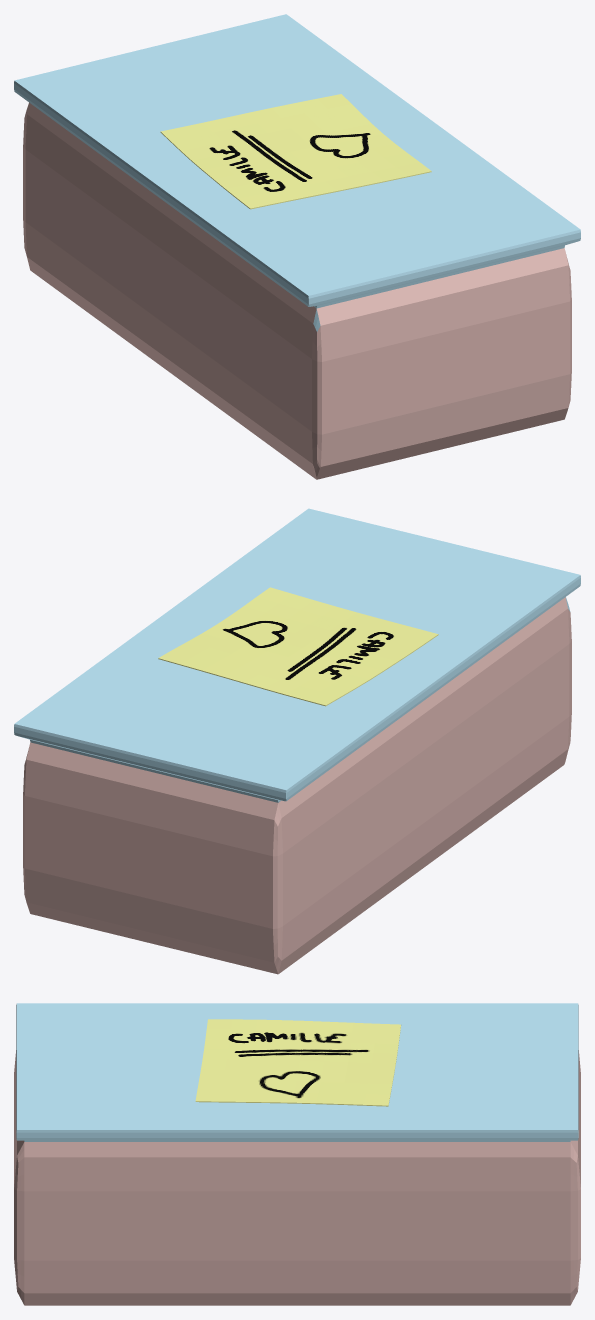
The model's file is Tupperware.fbx.
3 views of the same model, one above another, from view 1: azimuth 30°, elevation 25°; view 2: azimuth 150°, elevation 25°; view 3: azimuth 270°, elevation 25° (orthographic). The views are drawn at different scales.
Visible parts, largest first — view 1: Box, Post-it; view 2: Box, Post-it; view 3: Box, Post-it.
Part boxes in pixels (bbox=[...]): Box: bbox=[14, 14, 580, 479]; Post-it: bbox=[160, 94, 431, 209]; Box: bbox=[14, 508, 580, 974]; Post-it: bbox=[158, 587, 438, 706]; Box: bbox=[14, 1003, 580, 1305]; Post-it: bbox=[195, 1019, 401, 1106].
Bounding box in the file's own units: 21.18 × 14.41 × 40.
